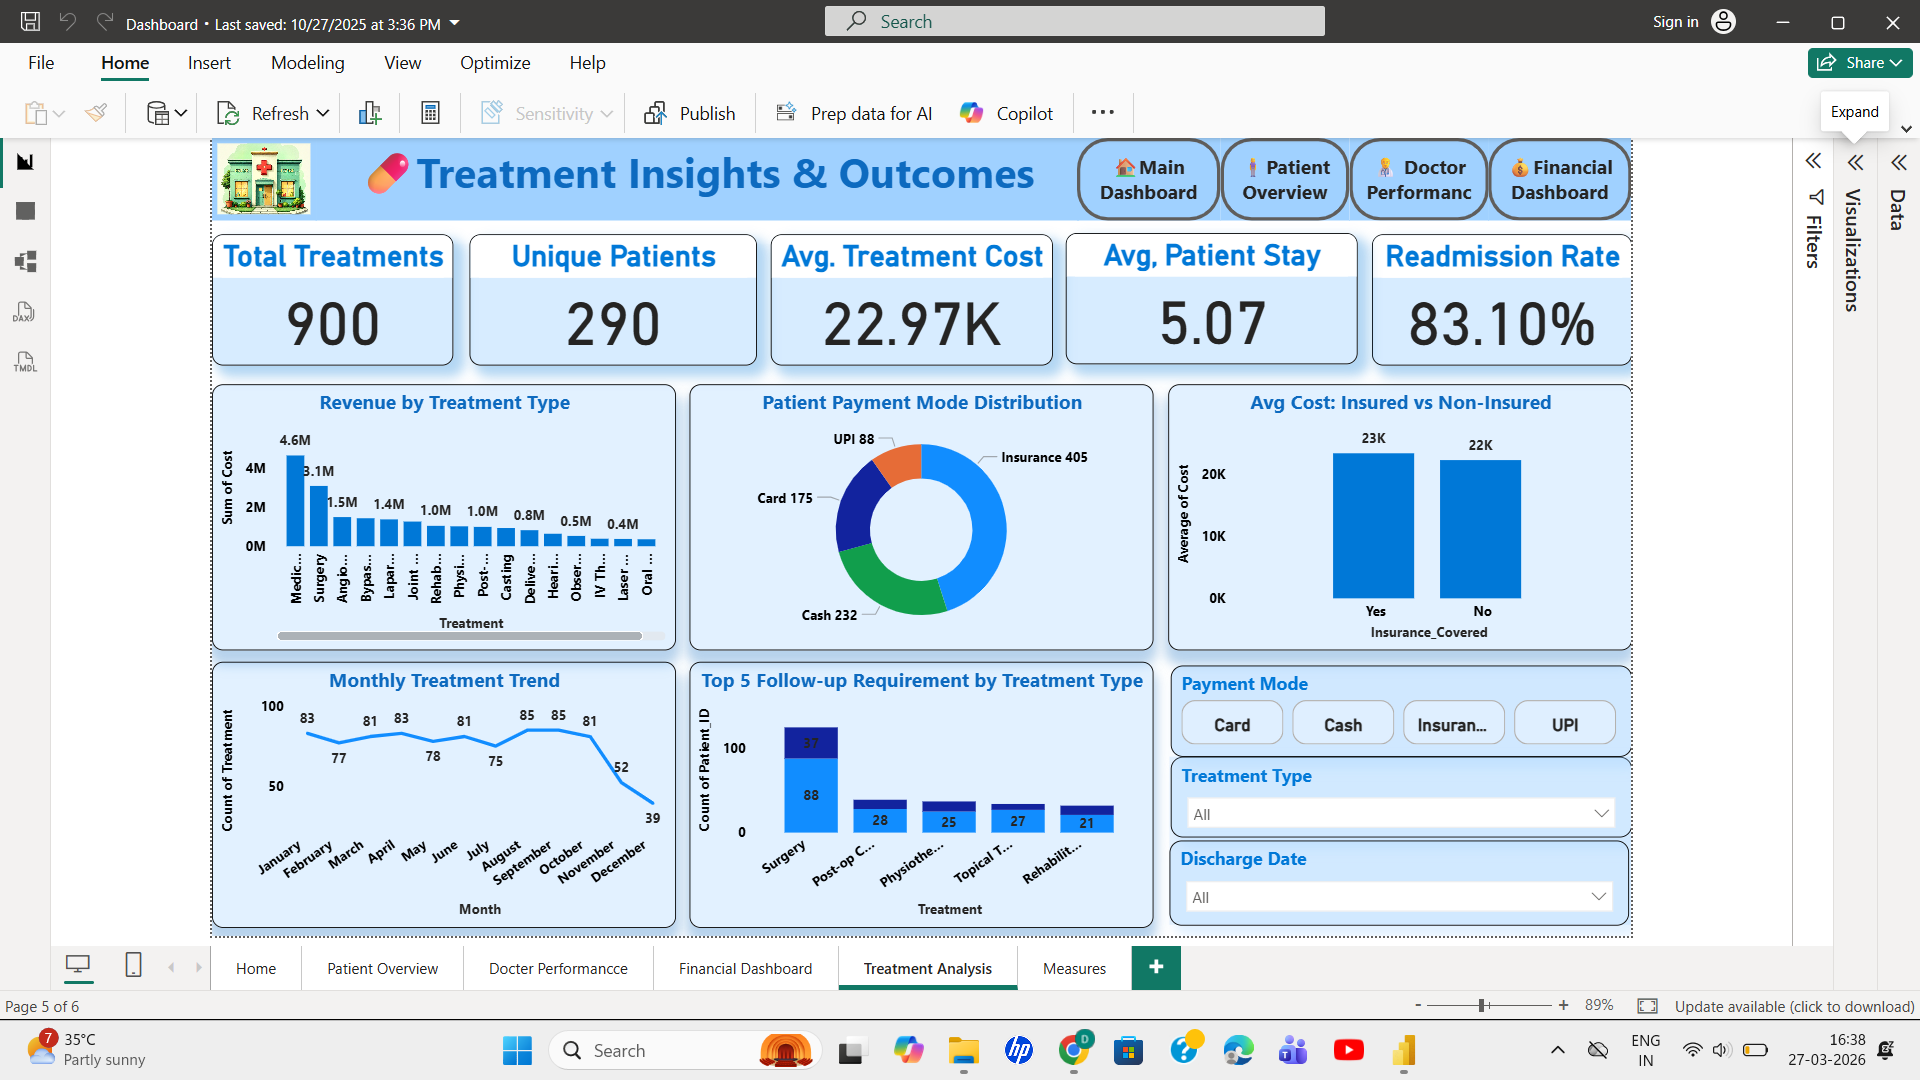

The dashboard page shown, as its layout file describes it:
{"tool":"powerbi","page":{"name":"Treatment Analysis","canvas":[1280,720],"ordinal":4},"visuals":[{"type":"group","id":"g1","title":"Group 1","box":[0,0,782.2,74.1],"z":0},{"type":"textbox","box":[94.1,0,688.1,74.1],"z":0,"group":"g1"},{"type":"card","title":"Total Treatments","fields":{"Values":["Measure.Total Treatments"]},"box":[0,86.6,217.7,118.6],"z":0,"group":"g2"},{"type":"image","box":[0,0,94.1,74.1],"z":1000,"group":"g1"},{"type":"group","id":"g2","title":"Group 2","box":[0,86,1280.3,119.8],"z":1000},{"type":"card","title":"Unique Patients ","fields":{"Values":["Measure.Unique Patients"]},"box":[232.3,86.7,259.2,118.6],"z":1000,"group":"g2"},{"type":"slicer","title":"Treatment Type","fields":{"Values":["FactPatientVisit.Treatment"]},"box":[864,558.8,415.8,72.8],"z":1000,"group":"g4"},{"type":"card","title":"Avg. Treatment Cost","fields":{"Values":["Measure.Aveg Treatment Cost"]},"box":[503.8,87.2,254.3,118.6],"z":2000,"group":"g2"},{"type":"columnChart","title":"Revenue by Treatment Type","fields":{"Y":["Sum(FactPatientVisit.Cost)"],"Category":["FactPatientVisit.Treatment"]},"box":[0,222,418.3,240.2],"z":2000},{"type":"slicer","title":"Discharge Date","fields":{"Values":["FactPatientVisit.Discharge_Date"]},"box":[862.8,633.9,414.4,76.9],"z":2000,"group":"g4"},{"type":"card","title":"Readmission Rate","fields":{"Values":["Measure.Readmission Rate %"]},"box":[1045.5,87.2,234.8,118.6],"z":3000,"group":"g2"},{"type":"donutChart","title":"Patient Payment Mode Distribution","fields":{"Category":["FactPatientVisit.Payment_Mode"],"Y":["CountNonNull(FactPatientVisit.Patient_ID)"]},"box":[430.5,222,418.3,240.2],"z":3000},{"type":"card","title":"Avg, Patient Stay","fields":{"Values":["Measure.Avg Length of Stay"]},"box":[770.4,86,262.9,118.6],"z":4000,"group":"g2"},{"type":"clusteredColumnChart","title":"Avg Cost: Insured vs Non-Insured","fields":{"Category":["FactPatientVisit.Insurance_Covered"],"Y":["Avg(FactPatientVisit.Cost)"]},"box":[862.2,222,418.3,240.2],"z":4000},{"type":"lineChart","title":"Monthly Treatment Trend","fields":{"Category":["FactPatientVisit.Discharge_Date.Variation.Date Hierarchy.Year","FactPatientVisit.Discharge_Date.Variation.Date Hierarchy.Quarter","FactPatientVisit.Discharge_Date.Variation.Date Hierarchy.Month","FactPatientVisit.Discharge_Date.Variation.Date Hierarchy.Day"],"Y":["CountNonNull(FactPatientVisit.Treatment)"]},"box":[0,472,418,240],"z":5000},{"type":"columnChart","title":"Top 5 Follow-up Requirement by Treatment Type","fields":{"Category":["FactPatientVisit.Treatment"],"Y":["CountNonNull(FactPatientVisit.Patient_ID)"],"Series":["FactPatientVisit.Followup_Required"]},"box":[430.5,472,418.3,240.2],"z":6000},{"type":"group","id":"g3","title":"Group 4","box":[862.8,476.2,417.2,234.6],"z":7000},{"type":"group","id":"g4","title":"Group 3","box":[862.8,558.8,417,152.1],"z":7000,"group":"g3"},{"type":"actionButton","box":[909.8,0,115.9,74.4],"z":8000},{"type":"advancedSlicerVisual","title":"Payment Mode","fields":{"Values":["FactPatientVisit.Payment_Mode"]},"box":[864.2,476.2,415.8,82.4],"z":8000,"group":"g3"},{"type":"actionButton","box":[1025.6,0,125.6,74.4],"z":9000},{"type":"actionButton","box":[1151.2,0,129.3,74.4],"z":10000},{"type":"actionButton","box":[780.5,0,129.3,74.4],"z":11000}]}

Visuals, with their boxes on the page's 1280x720 design canvas (x1, y1, x2, y2). These are canvas units, not pixel positions in the 1920x1080 screenshot, which may show the page scaled, cropped or inside an application window:
"Group 1" group: 0,0,782,74
textbox: 94,0,782,74
"Total Treatments" card: 0,87,218,205
image: 0,0,94,74
"Group 2" group: 0,86,1280,206
"Unique Patients " card: 232,87,492,205
"Treatment Type" slicer: 864,559,1280,632
"Avg. Treatment Cost" card: 504,87,758,206
"Revenue by Treatment Type" columnChart: 0,222,418,462
"Discharge Date" slicer: 863,634,1277,711
"Readmission Rate" card: 1046,87,1280,206
"Patient Payment Mode Distribution" donutChart: 430,222,849,462
"Avg, Patient Stay" card: 770,86,1033,205
"Avg Cost: Insured vs Non-Insured" clusteredColumnChart: 862,222,1280,462
"Monthly Treatment Trend" lineChart: 0,472,418,712
"Top 5 Follow-up Requirement by Treatment Type" columnChart: 430,472,849,712
"Group 4" group: 863,476,1280,711
"Group 3" group: 863,559,1280,711
actionButton: 910,0,1026,74
"Payment Mode" advancedSlicerVisual: 864,476,1280,559
actionButton: 1026,0,1151,74
actionButton: 1151,0,1280,74
actionButton: 780,0,910,74
